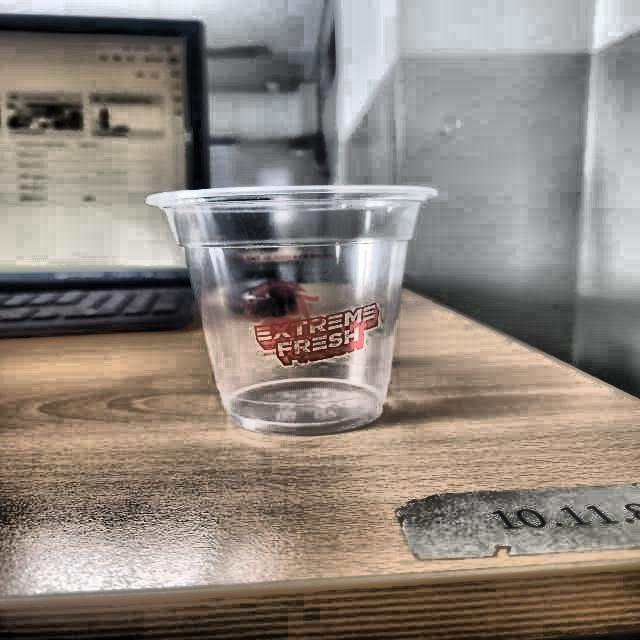plastic cup: (145, 184, 444, 434)
